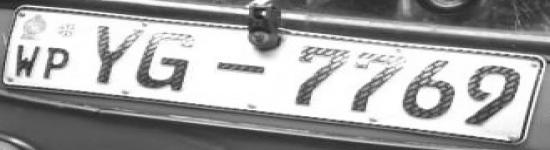-: (204, 55, 278, 86)
6: (384, 53, 473, 127)
7: (328, 46, 421, 119), (270, 40, 359, 112)
9: (450, 58, 530, 132)
G: (120, 27, 208, 96)
P: (42, 46, 73, 82)
W: (14, 42, 42, 80)
Y: (77, 21, 152, 88)
